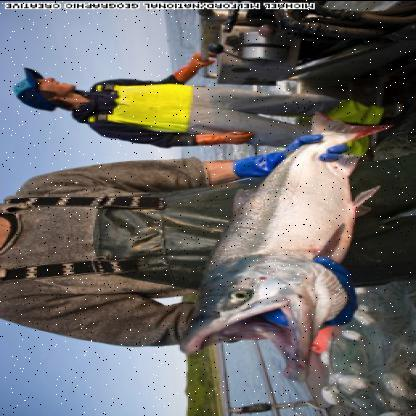fish: (172, 111, 390, 385)
